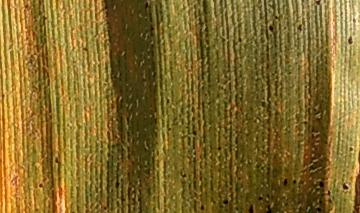tarspot: (353, 144, 360, 213), (142, 1, 152, 15), (341, 180, 351, 192), (264, 201, 273, 213), (246, 202, 255, 213), (346, 34, 354, 46), (281, 176, 289, 186), (266, 24, 274, 34), (190, 125, 198, 135), (317, 180, 325, 189), (37, 181, 45, 190), (221, 198, 230, 206), (178, 169, 186, 178), (347, 145, 355, 153), (296, 23, 303, 32), (260, 100, 267, 108), (164, 97, 172, 104), (257, 194, 264, 202), (114, 179, 119, 190), (237, 35, 243, 44), (54, 156, 60, 165), (312, 1, 322, 6), (81, 46, 88, 53), (315, 205, 321, 213), (326, 187, 331, 196), (291, 178, 297, 185), (23, 3, 29, 10), (217, 145, 223, 152), (199, 203, 204, 211)
